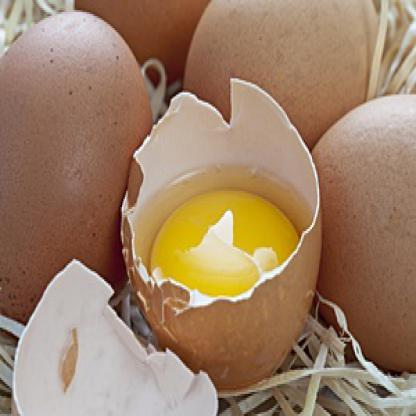egg: (0, 0, 164, 338), (298, 76, 415, 410), (182, 0, 414, 165)
